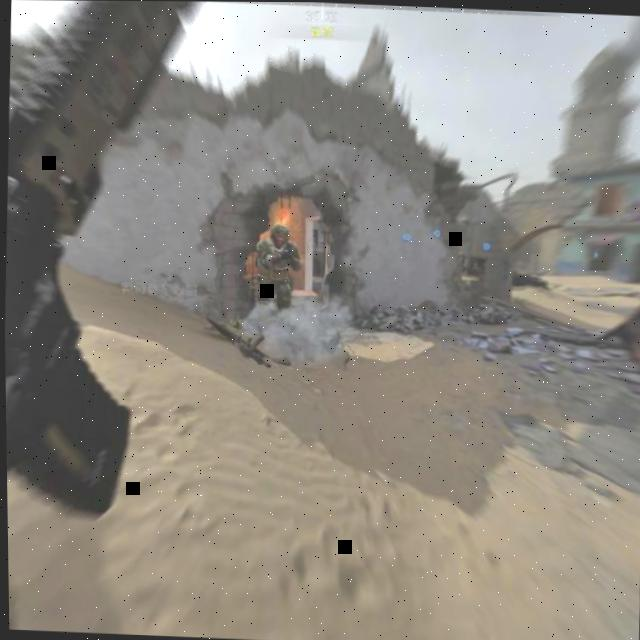MW2_body: (250, 205, 302, 312)
